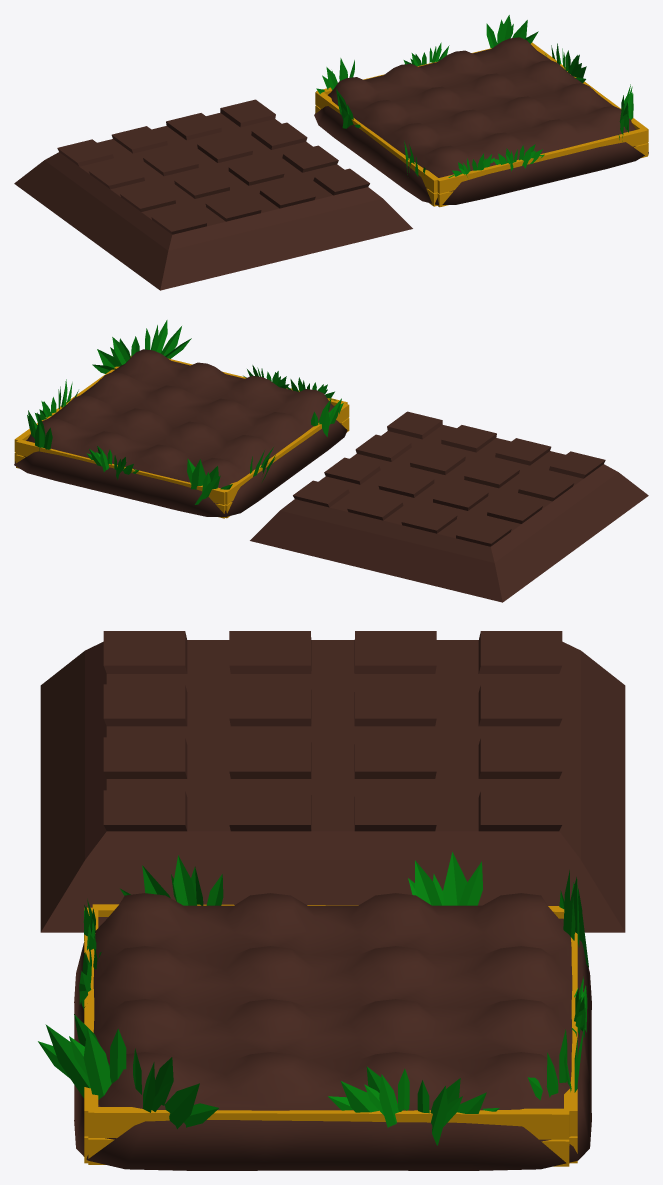
The model's file is graden.glb.
The picture shows the model from 3 angles, top to bottom: view 1: azimuth 30°, elevation 25°; view 2: azimuth 150°, elevation 25°; view 3: azimuth 270°, elevation 25°; orthographic projection. The views are drawn at different scales.
Visible parts, largest first — view 1: garden_backup, garden, Cube.001, Cube.005; view 2: garden_backup, garden, Cube.004, Cube.005; view 3: garden_backup, garden, Cube.008, Cube.004, Cube.001, Cube.007.
Part boxes in pixels (x1=…): garden_backup: x1=14, y1=99, x2=412, y2=290; garden: x1=314, y1=15, x2=648, y2=204; Cube.001: x1=436, y1=129, x2=647, y2=193; Cube.005: x1=315, y1=92, x2=439, y2=192; garden_backup: x1=250, y1=411, x2=648, y2=602; garden: x1=14, y1=320, x2=347, y2=516; Cube.004: x1=16, y1=440, x2=227, y2=504; Cube.005: x1=225, y1=404, x2=349, y2=504; garden_backup: x1=40, y1=631, x2=625, y2=932; garden: x1=38, y1=852, x2=591, y2=1170; Cube.008: x1=88, y1=1107, x2=569, y2=1139; Cube.004: x1=564, y1=912, x2=577, y2=1136; Cube.001: x1=84, y1=907, x2=98, y2=1136; Cube.007: x1=88, y1=1138, x2=569, y2=1166.
Size of the model in its own units: 35.87 by 4.48 by 17.81.
